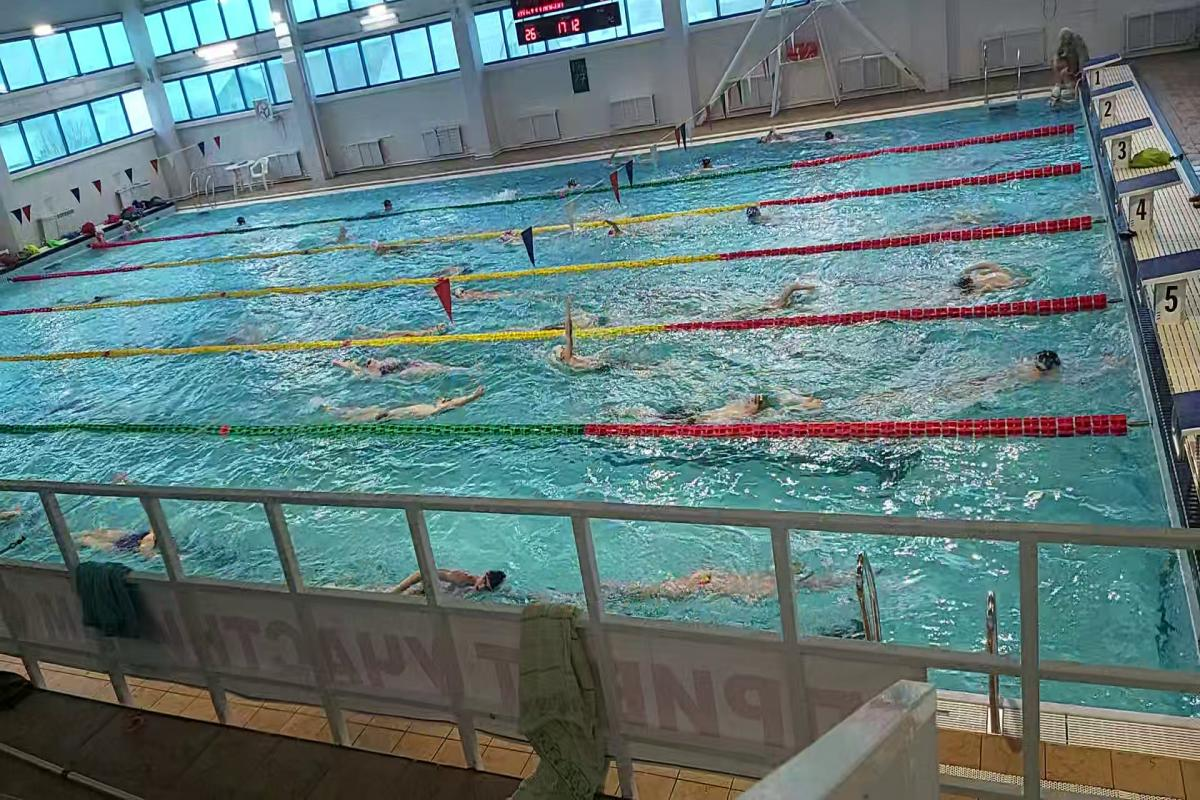swimmer: (592, 553, 810, 613), (375, 556, 517, 599), (989, 341, 1090, 395), (654, 388, 807, 422), (345, 389, 481, 420), (544, 343, 632, 384), (59, 524, 160, 558), (952, 255, 1036, 295), (347, 351, 465, 379), (371, 309, 456, 334), (455, 279, 527, 305), (768, 280, 838, 306), (738, 202, 805, 228), (365, 231, 411, 258), (602, 217, 648, 241)
